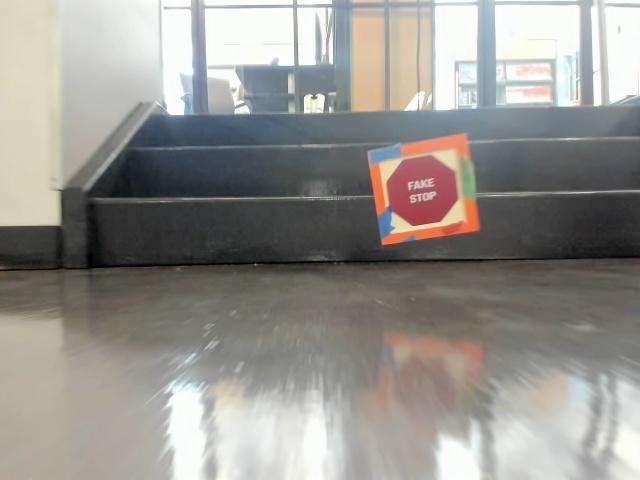Fake Stop: (381, 161, 453, 229)
